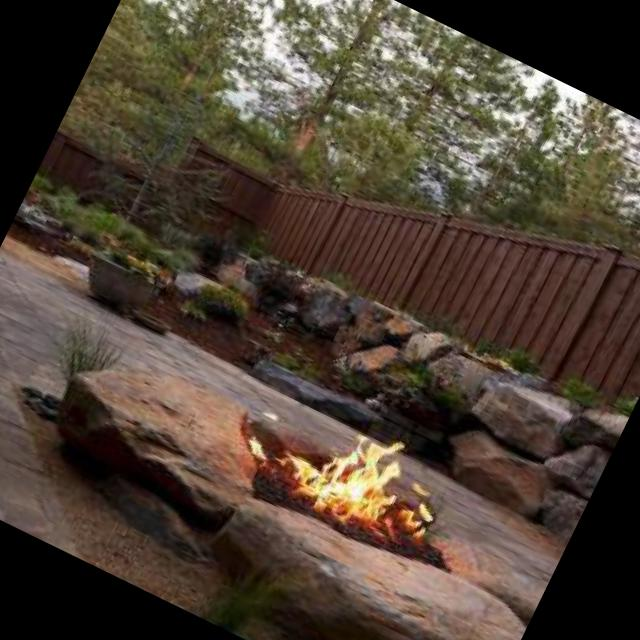fire: (244, 384, 488, 576)
